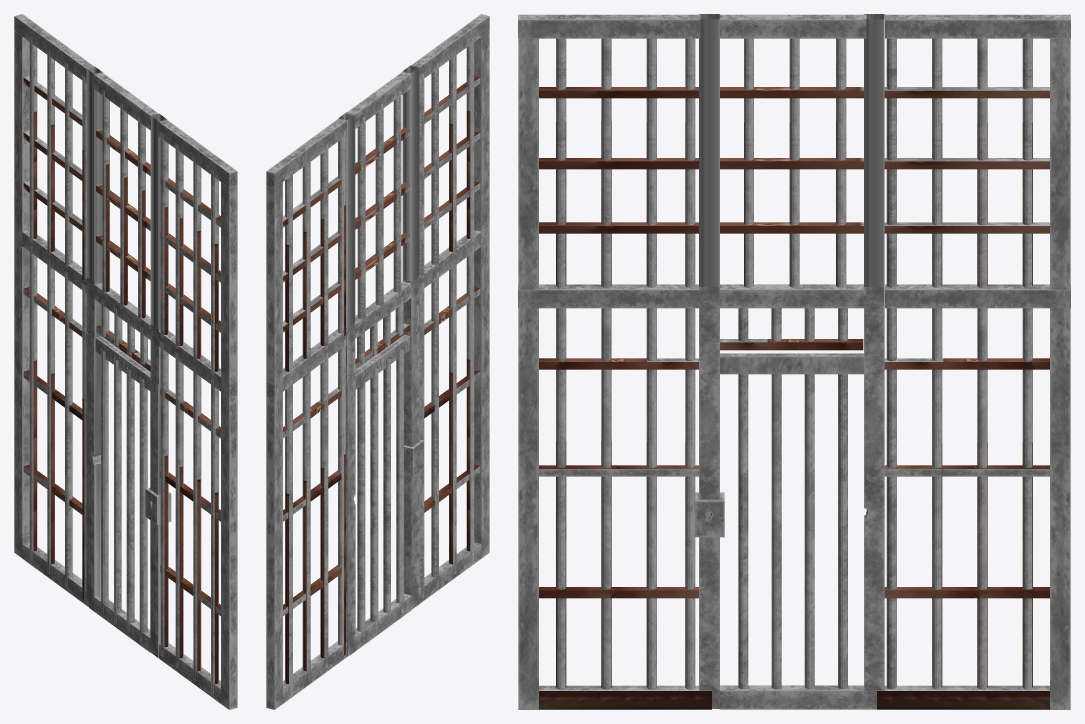
Rendered from Hallway_Door2.fbx.
3 views of the same model, side by side, from view 1: azimuth 30°, elevation 25°; view 2: azimuth 150°, elevation 25°; view 3: azimuth 270°, elevation 25° (orthographic). The views are drawn at different scales.
Visible parts, largest first — view 1: HallwayDoor_2, Door.003; view 2: HallwayDoor_2, Door.003; view 3: HallwayDoor_2, Door.003.
Part boxes in pixels (x1=…): HallwayDoor_2: x1=14, y1=14, x2=237, y2=709; Door.003: x1=86, y1=332, x2=171, y2=657; HallwayDoor_2: x1=266, y1=14, x2=489, y2=709; Door.003: x1=346, y1=330, x2=424, y2=656; HallwayDoor_2: x1=518, y1=14, x2=1070, y2=709; Door.003: x1=695, y1=353, x2=884, y2=709.
Size of the model in its own units: 0.2252 by 8.02 by 5.81.
